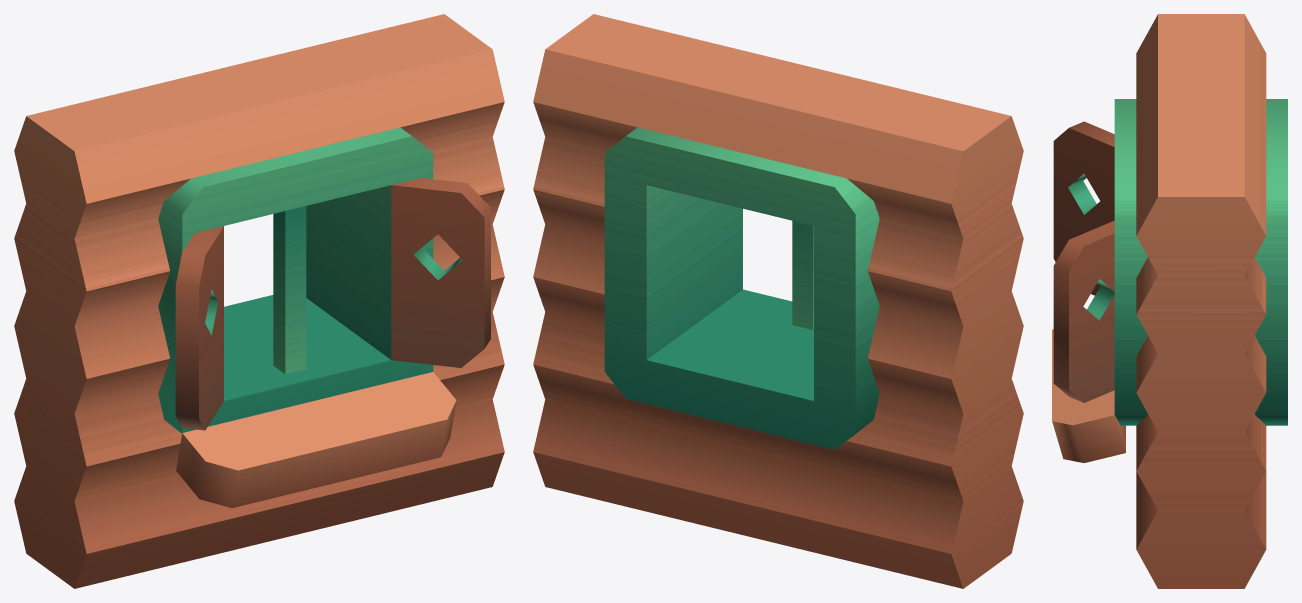
File: cabin-window-c.glb
3 views of the same model, side by side, from view 1: azimuth 30°, elevation 25°; view 2: azimuth 150°, elevation 25°; view 3: azimuth 270°, elevation 25° (orthographic). The views are drawn at different scales.
Parts seen in each view (by area): view 1: cabin-window-c; view 2: cabin-window-c; view 3: cabin-window-c.
Part boxes in pixels (x1,y1,x2,y2): cabin-window-c: [14, 14, 504, 588]; cabin-window-c: [533, 14, 1023, 588]; cabin-window-c: [1052, 14, 1287, 588].
Size of the model in its own units: 1 by 1 by 0.5449.
1 material, 1 textured.
